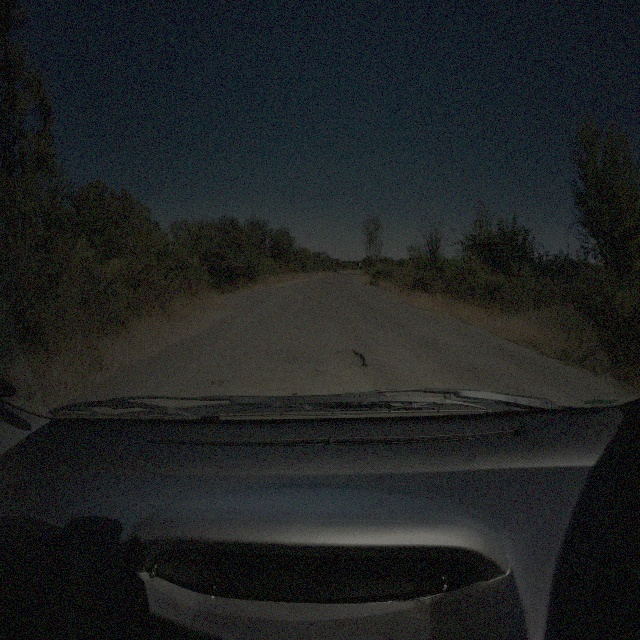pothole: (331, 345, 368, 368), (207, 376, 222, 387)
